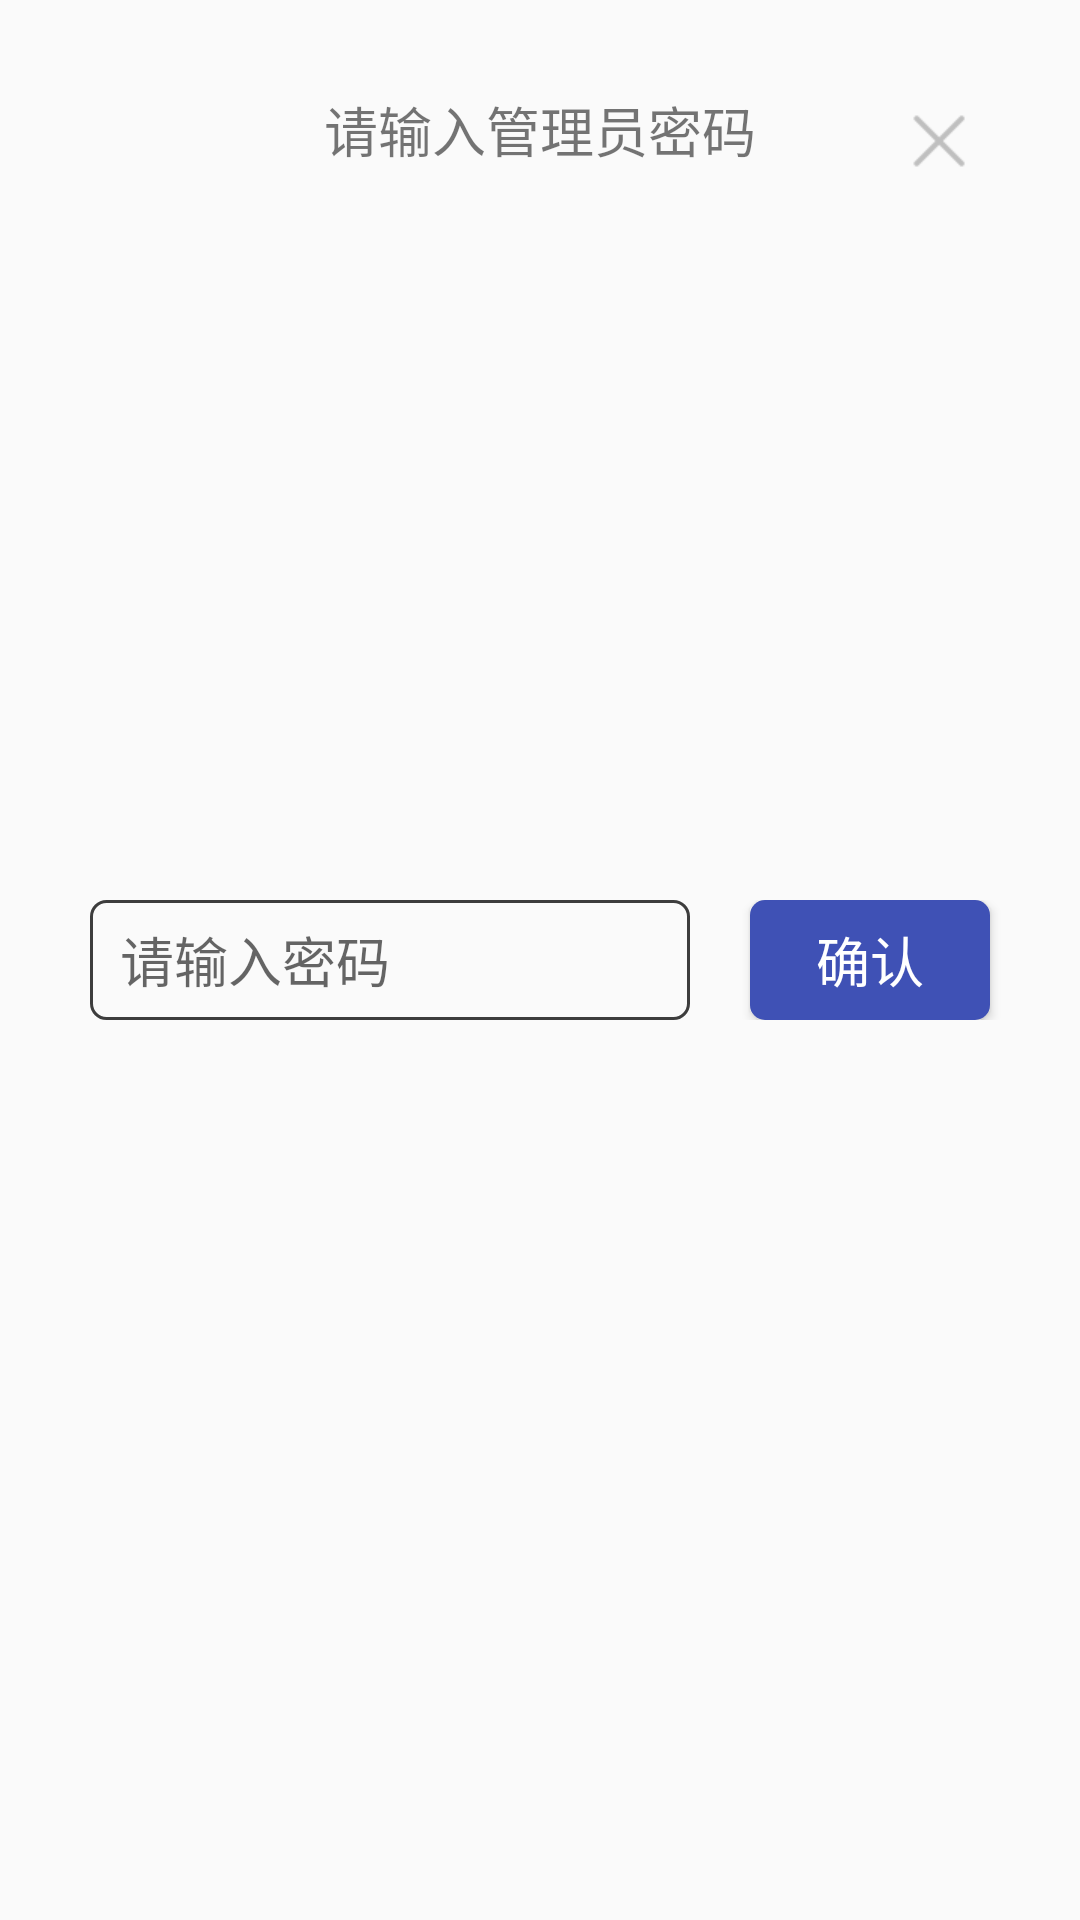

Point at icon controls on the screen. Image size 1080 × 1920, points as [x,y].
close: [939,141]
